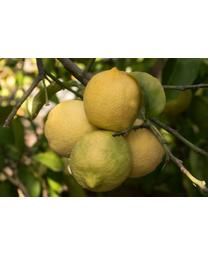lemon: (70, 131, 134, 193), (83, 68, 143, 134), (47, 101, 97, 157)
